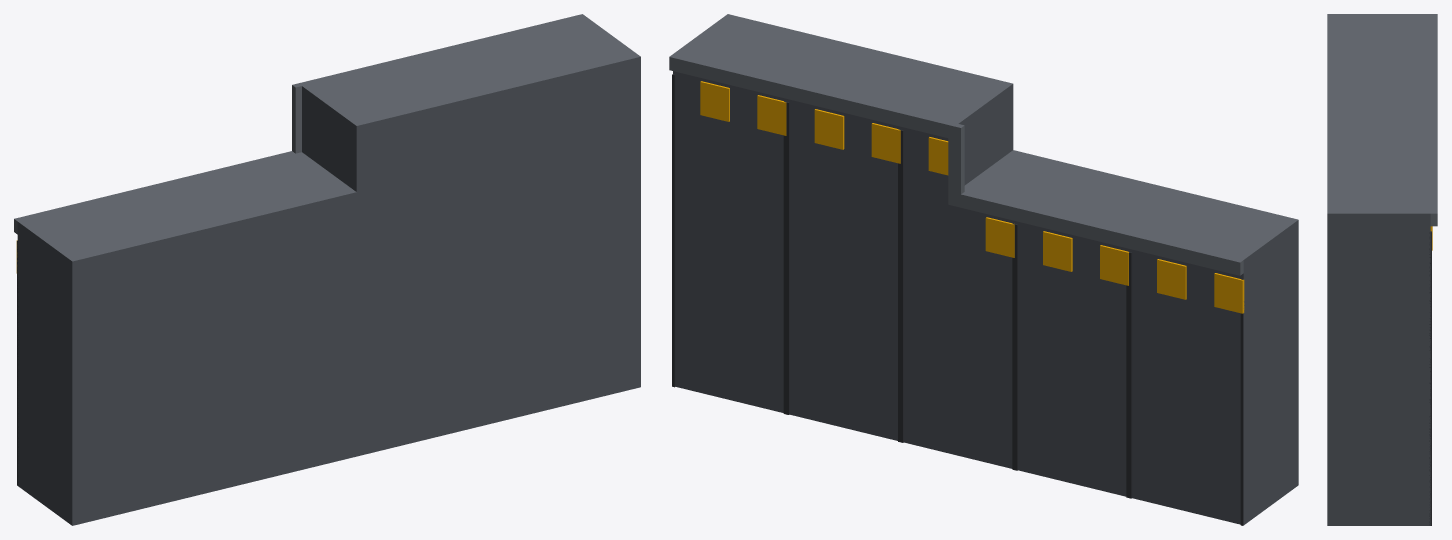
The picture shows the model from 3 angles, left to right: view 1: azimuth 30°, elevation 25°; view 2: azimuth 150°, elevation 25°; view 3: azimuth 270°, elevation 25°; orthographic projection. The views are drawn at different scales.
Parts seen in each view (by area): view 1: k1w; view 2: k1w; view 3: k1w.
Boxes of the visible parts, x1,y1,x2,y2 form: k1w: (14, 14, 640, 525); k1w: (669, 14, 1298, 525); k1w: (1327, 14, 1437, 525).
Bounding box in the file's own units: 9 × 5 × 1.6.
